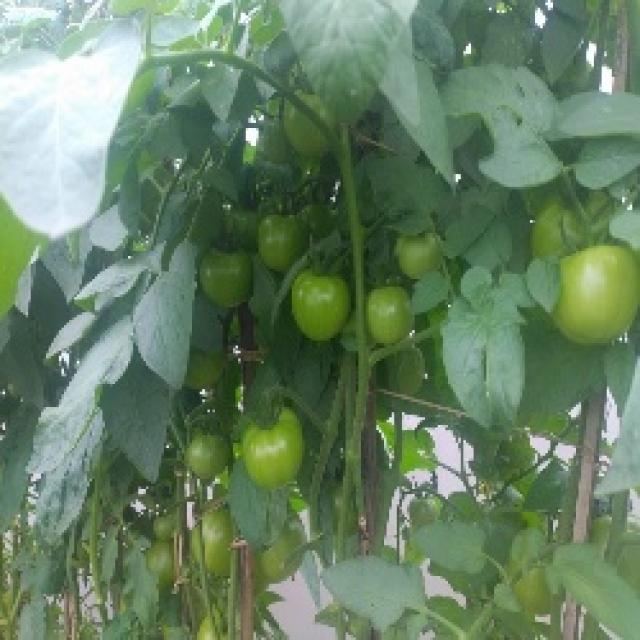tomato: (556, 241, 640, 344), (247, 406, 308, 490), (290, 271, 357, 347), (520, 198, 594, 259), (201, 240, 258, 315), (277, 108, 337, 168), (199, 509, 239, 585), (259, 215, 311, 273), (368, 285, 420, 341), (259, 531, 310, 584), (515, 565, 564, 620), (189, 434, 239, 486), (399, 234, 455, 279), (187, 355, 222, 393), (150, 510, 181, 543), (153, 543, 172, 588)
